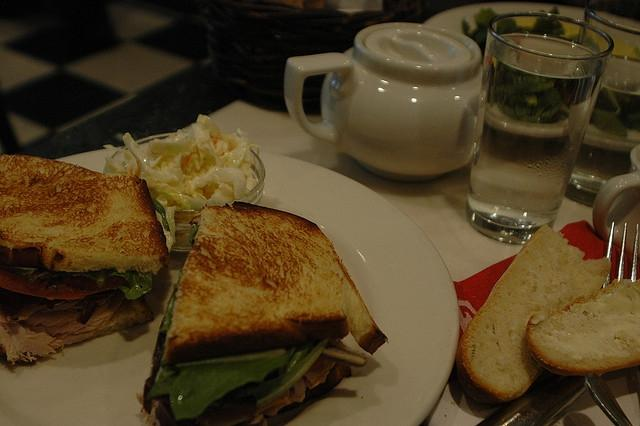tomato: (1, 270, 130, 298)
